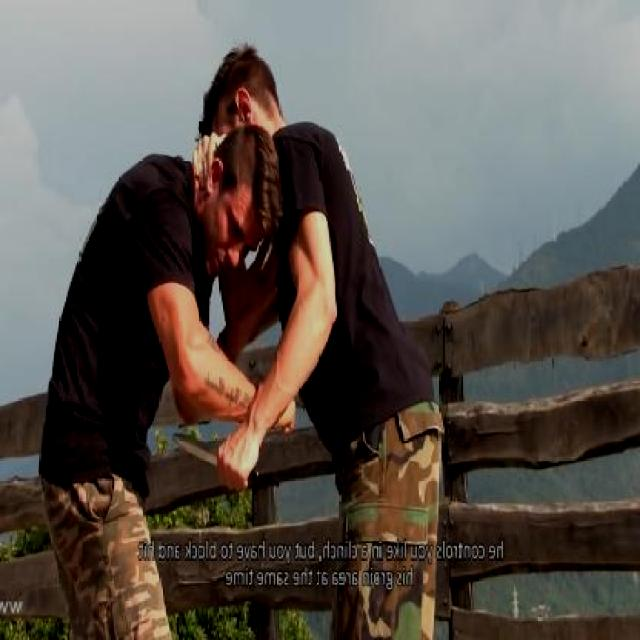knife: (168, 423, 262, 499)
